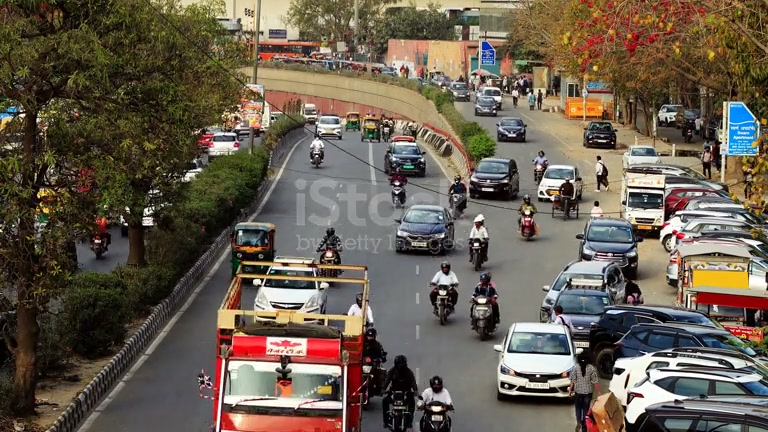bus: (674, 238, 768, 328)
car: (612, 357, 767, 426), (588, 303, 736, 369), (609, 353, 768, 407), (605, 323, 766, 372), (493, 321, 579, 403), (539, 258, 635, 315), (631, 400, 768, 430), (576, 218, 641, 276), (394, 204, 455, 256), (230, 221, 277, 277), (469, 157, 520, 200), (537, 164, 584, 202), (383, 139, 427, 177), (199, 132, 241, 156), (583, 121, 618, 149), (622, 145, 660, 170), (474, 88, 502, 115), (315, 114, 344, 140), (496, 117, 527, 141), (449, 82, 470, 101)
motorcycle: (381, 386, 417, 432), (469, 292, 501, 340), (429, 285, 458, 326), (418, 399, 454, 431), (551, 186, 581, 219), (467, 236, 489, 271), (516, 210, 540, 242), (308, 137, 325, 167), (390, 182, 407, 208)
pedestrian: (381, 355, 420, 429), (567, 350, 598, 432), (417, 375, 454, 431), (469, 272, 501, 326), (428, 261, 460, 312), (467, 214, 490, 269), (594, 155, 610, 191)
truck: (211, 305, 369, 429), (620, 163, 725, 236)
